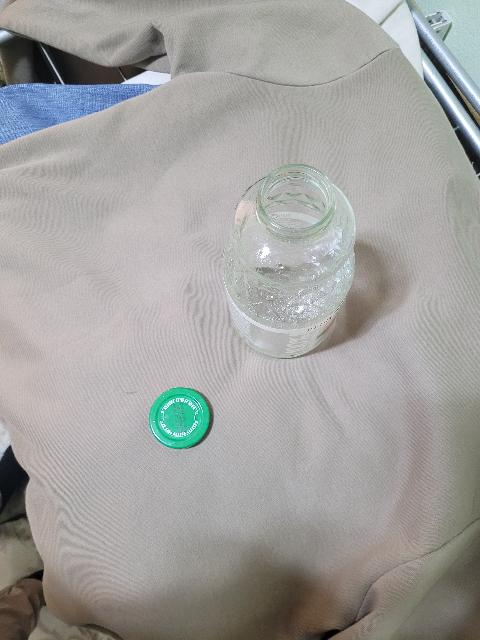Cam: (222, 160, 359, 364)
Metal: (149, 383, 217, 453)
